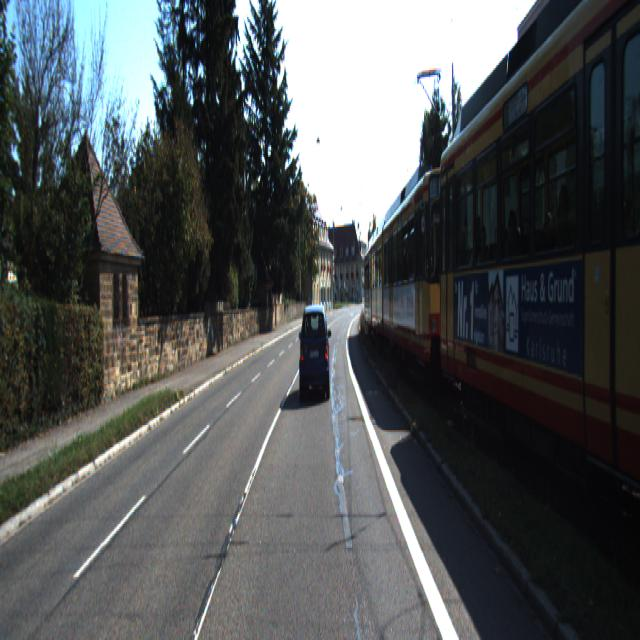Car: (439, 0, 640, 587), (381, 148, 477, 400), (370, 215, 408, 353), (300, 302, 332, 405), (363, 236, 391, 342)
